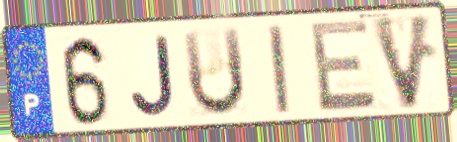6: (58, 33, 110, 128)
E: (306, 16, 380, 116)
I: (264, 22, 293, 117)
J: (127, 32, 178, 120)
U: (179, 25, 248, 120)
V: (368, 11, 437, 113)
